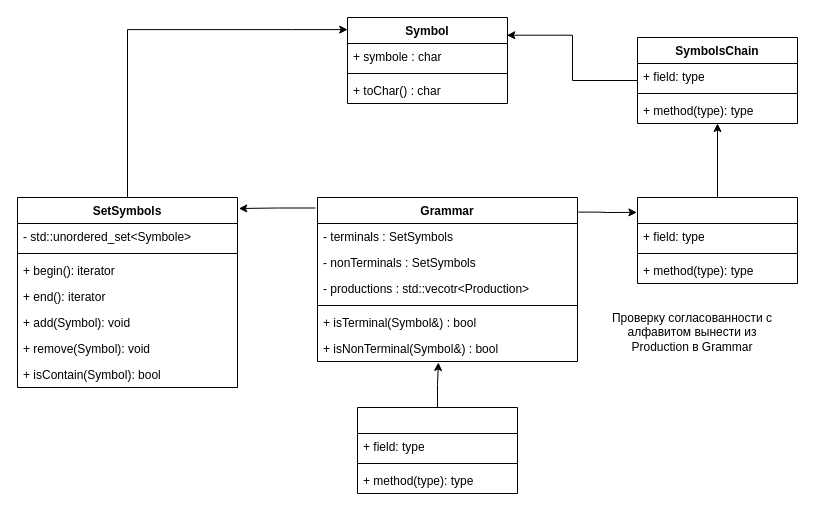
The diagram is 815 pixels wide and 514 high, and some of its shapes have lost their labels. Here are the shapes that lost their labels. From the top down, the box of each, then its label:
(636, 196, 798, 284): Production
(356, 406, 518, 494): Grammar::Builder
